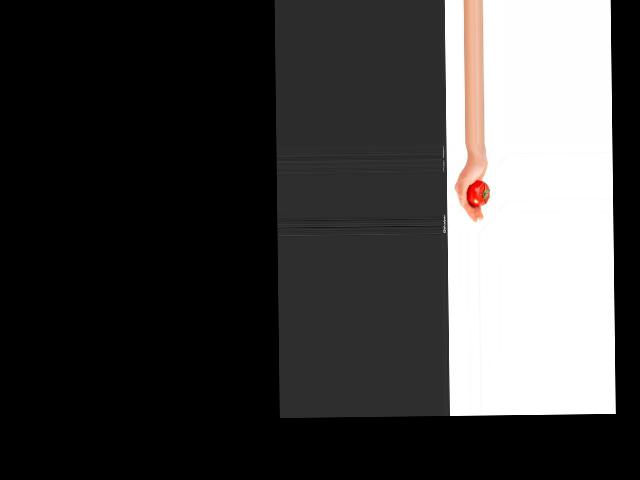tomato: (466, 179, 489, 205)
